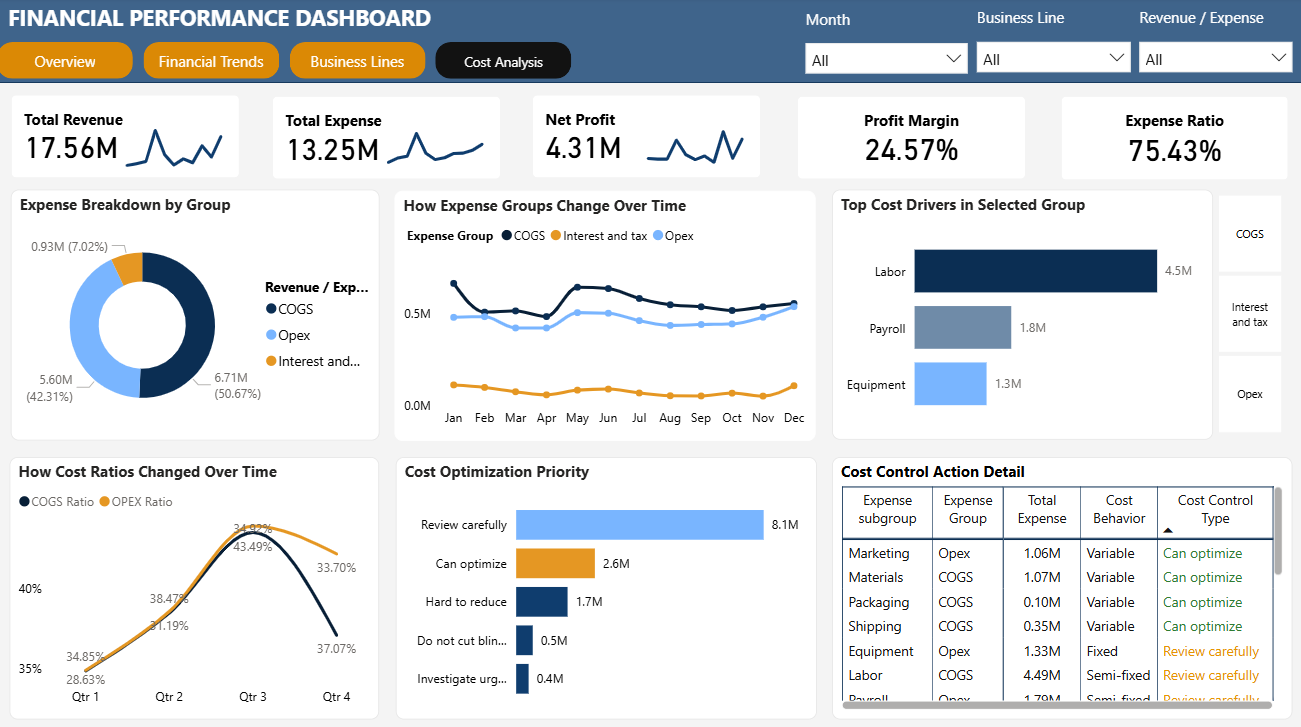

The page's visual inventory and layout, read from the dashboard file:
{"tool":"powerbi","page":{"name":"Cost and Category Analysis","canvas":[1280,720],"ordinal":3},"visuals":[{"type":"shape","box":[0,0,1280.3,84.2],"z":0},{"type":"cardVisual","fields":{"Data":["Measure.Expense Ratio"]},"box":[1034.1,83.2,246.2,104.9],"z":0,"group":"g8"},{"type":"textbox","box":[0,0,491.6,51.4],"z":1000},{"type":"group","id":"g1","title":"Group 3","box":[0,83.2,259.7,104.9],"z":1000,"group":"g8"},{"type":"actionButton","title":"Overview","box":[0,35.5,170,47.7],"z":2000},{"type":"group","id":"g2","title":"Group 3","box":[262,83.2,260.1,105.2],"z":2000,"group":"g8"},{"type":"actionButton","box":[170,35.5,170,47.7],"z":3000},{"type":"slicer","fields":{"Values":["Dim_BusinessLine.Business Line"]},"box":[953.8,39.3,160,42.8],"z":3000,"group":"g6"},{"type":"slicer","fields":{"Values":["Dim_AccountType.Revenue / Expense Group"]},"box":[1113.2,39.9,159.4,42.5],"z":3000,"group":"g7"},{"type":"slicer","fields":{"Values":["Dim_Date.Month"]},"box":[786.8,40.6,167.8,42.8],"z":3000,"group":"g5"},{"type":"group","id":"g3","title":"Group 3","box":[524.3,83.2,259.3,104.9],"z":3000,"group":"g8"},{"type":"textbox","box":[953.8,5.1,153.6,35.5],"z":4000,"group":"g6"},{"type":"textbox","box":[1113.6,5.1,153.4,35.7],"z":4000,"group":"g7"},{"type":"textbox","box":[786.8,6.4,161.1,35.5],"z":4000,"group":"g5"},{"type":"actionButton","box":[339.9,35.5,170,47.7],"z":4000},{"type":"group","id":"g4","title":"Group 3","box":[785.9,83.2,246.2,104.9],"z":4000,"group":"g8"},{"type":"actionButton","box":[509.9,33.7,168.8,47.7],"z":5000},{"type":"cardVisual","fields":{"Data":["Measure.Total Revenue"]},"box":[0,83.2,246.6,104.9],"z":5000,"group":"g1"},{"type":"cardVisual","fields":{"Data":["Measure.Total Expense"]},"box":[262,83.2,246.6,104.9],"z":5000,"group":"g2"},{"type":"cardVisual","fields":{"Data":["Measure.Net Profit"]},"box":[524.3,83.2,246.6,104.9],"z":5000,"group":"g3"},{"type":"cardVisual","fields":{"Data":["Measure.Profit Margin"]},"box":[785.9,83.2,246.2,104.9],"z":5000,"group":"g4"},{"type":"group","id":"g5","title":"Group 2","box":[786.8,6.4,167,76.5],"z":6000},{"type":"group","id":"g6","title":"Group 2","box":[953.8,5.1,159.4,76.5],"z":7000},{"type":"group","id":"g7","title":"Group 2","box":[1113.2,5.1,159.4,77.8],"z":8000},{"type":"group","id":"g8","title":"Group 1","box":[0,83.2,1280.3,105.2],"z":9000},{"type":"donutChart","title":"Expense Breakdown by Group","fields":{"Category":["Dim_AccountType.Revenue / Expense Group"],"Y":["Measure.Total Expense"]},"box":[13.5,188.3,360.7,245.8],"z":10000},{"type":"lineChart","title":"How Expense Groups Change Over Time","fields":{"Y":["Measure.Total Expense"],"Series":["Dim_AccountType.Revenue / Expense Group"],"Category":["Dim_Date.Year Hierarchy.Year","Dim_Date.Year Hierarchy.Quarter","Dim_Date.Year Hierarchy.Month Short"]},"box":[388.9,189.5,412.1,244.6],"z":11000},{"type":"clusteredBarChart","title":"Top Cost Drivers in Selected Group","fields":{"Y":["Measure.Total Expense"],"Category":["Dim_AccountType.Expense subgroup"]},"box":[816.9,188.3,373,244.6],"z":12000},{"type":"slicer","fields":{"Values":["Dim_AccountType.Revenue / Expense Group"]},"box":[1169,187.1,111.3,245.8],"z":13000},{"type":"lineChart","title":"How Cost Ratios Changed Over Time","fields":{"Y":["Measure.COGS Ratio"],"Y2":["Measure.OPEX Ratio"],"Category":["Dim_Date.Date.Variation.Date Hierarchy.Quarter","Dim_Date.Date.Variation.Date Hierarchy.Month"]},"box":[12.2,450,362,256.8],"z":14000},{"type":"clusteredBarChart","title":"Cost Optimization Priority","fields":{"Category":["Dim_CostClassification.Cost Control Type"],"Y":["Measure.Total Expense"]},"box":[390.1,450,412.1,256.8],"z":15000},{"type":"lineChart","fields":{"Y":["Measure.Monthly Revenue Growth %"],"Category":["Dim_Date.Month"]},"box":[92.3,109.5,167.4,61.3],"z":16000,"group":"g1"},{"type":"lineChart","fields":{"Category":["Dim_Date.Month"],"Y":["Measure.Monthly Expense Growth %"]},"box":[354.3,109.5,167.4,61.3],"z":16000,"group":"g2"},{"type":"lineChart","fields":{"Category":["Dim_Date.Month"],"Y":["Measure.Monthly Net Profit Growth %"]},"box":[616.6,109.5,167.4,61.3],"z":16000,"group":"g3"},{"type":"tableEx","title":"Cost Control Action Detail","fields":{"Values":["Dim_CostClassification.Expense subgroup","Dim_AccountType.Revenue / Expense Group","Measure.Total Expense","Dim_CostClassification.Cost Behavior","Dim_Cost Control Type.Cost Control Type"]},"box":[816.9,450,450,256.8],"z":16000}]}

Visuals, with their boxes in screenshot pixels (x1, y1, x2, y2), scaled from the page's 1280x720 canvas onto the 1301x727 screenshot:
shape: (x1=0, y1=0, x2=1300, y2=85)
cardVisual - Measure.Expense Ratio: (x1=1051, y1=84, x2=1300, y2=190)
textbox: (x1=0, y1=0, x2=500, y2=52)
"Group 3" group: (x1=0, y1=84, x2=264, y2=190)
"Overview" actionButton: (x1=0, y1=36, x2=173, y2=84)
"Group 3" group: (x1=266, y1=84, x2=531, y2=190)
actionButton: (x1=173, y1=36, x2=346, y2=84)
slicer - Dim_BusinessLine.Business Line: (x1=969, y1=40, x2=1132, y2=83)
slicer - Dim_AccountType.Revenue / Expense Group: (x1=1131, y1=40, x2=1293, y2=83)
slicer - Dim_Date.Month: (x1=800, y1=41, x2=970, y2=84)
"Group 3" group: (x1=533, y1=84, x2=796, y2=190)
textbox: (x1=969, y1=5, x2=1126, y2=41)
textbox: (x1=1132, y1=5, x2=1288, y2=41)
textbox: (x1=800, y1=6, x2=963, y2=42)
actionButton: (x1=345, y1=36, x2=518, y2=84)
"Group 3" group: (x1=799, y1=84, x2=1049, y2=190)
actionButton: (x1=518, y1=34, x2=690, y2=82)
cardVisual - Measure.Total Revenue: (x1=0, y1=84, x2=251, y2=190)
cardVisual - Measure.Total Expense: (x1=266, y1=84, x2=517, y2=190)
cardVisual - Measure.Net Profit: (x1=533, y1=84, x2=784, y2=190)
cardVisual - Measure.Profit Margin: (x1=799, y1=84, x2=1049, y2=190)
"Group 2" group: (x1=800, y1=6, x2=969, y2=84)
"Group 2" group: (x1=969, y1=5, x2=1131, y2=82)
"Group 2" group: (x1=1131, y1=5, x2=1293, y2=84)
"Group 1" group: (x1=0, y1=84, x2=1300, y2=190)
"Expense Breakdown by Group" donutChart: (x1=14, y1=190, x2=380, y2=438)
"How Expense Groups Change Over Time" lineChart: (x1=395, y1=191, x2=814, y2=438)
"Top Cost Drivers in Selected Group" clusteredBarChart: (x1=830, y1=190, x2=1209, y2=437)
slicer - Dim_AccountType.Revenue / Expense Group: (x1=1188, y1=189, x2=1300, y2=437)
"How Cost Ratios Changed Over Time" lineChart: (x1=12, y1=454, x2=380, y2=714)
"Cost Optimization Priority" clusteredBarChart: (x1=397, y1=454, x2=815, y2=714)
lineChart - Measure.Monthly Revenue Growth % x Dim_Date.Month: (x1=94, y1=111, x2=264, y2=172)
lineChart - Dim_Date.Month x Measure.Monthly Expense Growth %: (x1=360, y1=111, x2=530, y2=172)
lineChart - Dim_Date.Month x Measure.Monthly Net Profit Growth %: (x1=627, y1=111, x2=797, y2=172)
"Cost Control Action Detail" tableEx: (x1=830, y1=454, x2=1288, y2=714)
